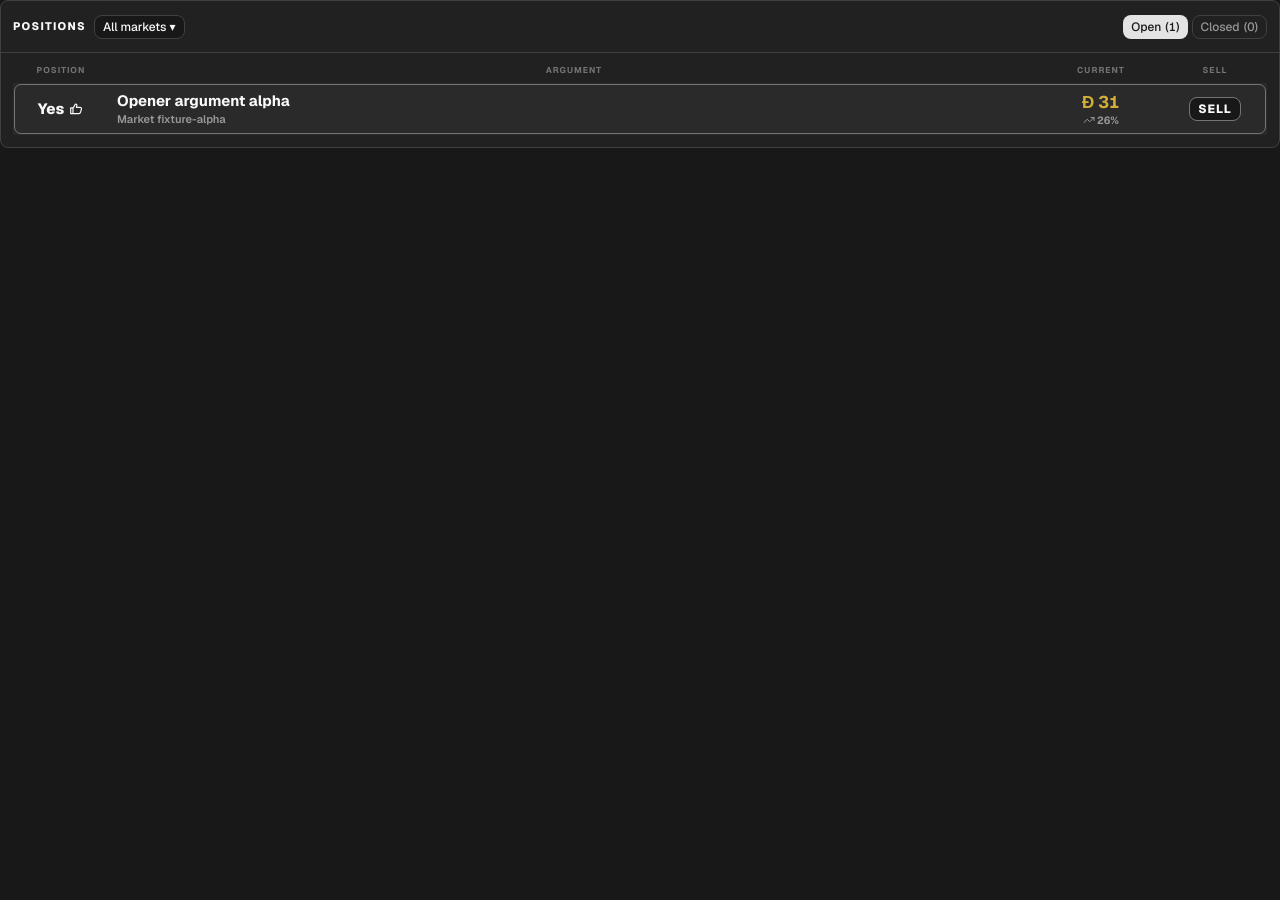
Scenario: MOBILE-2e — the phone sell, through its host › phone-host::the-tier-stub-MOUNTS-the-sheet-and-the-in-row-arm-stands-down
Click the button "Sell". click: [1215, 109]
box: left=1189, top=97, right=1241, bottom=121
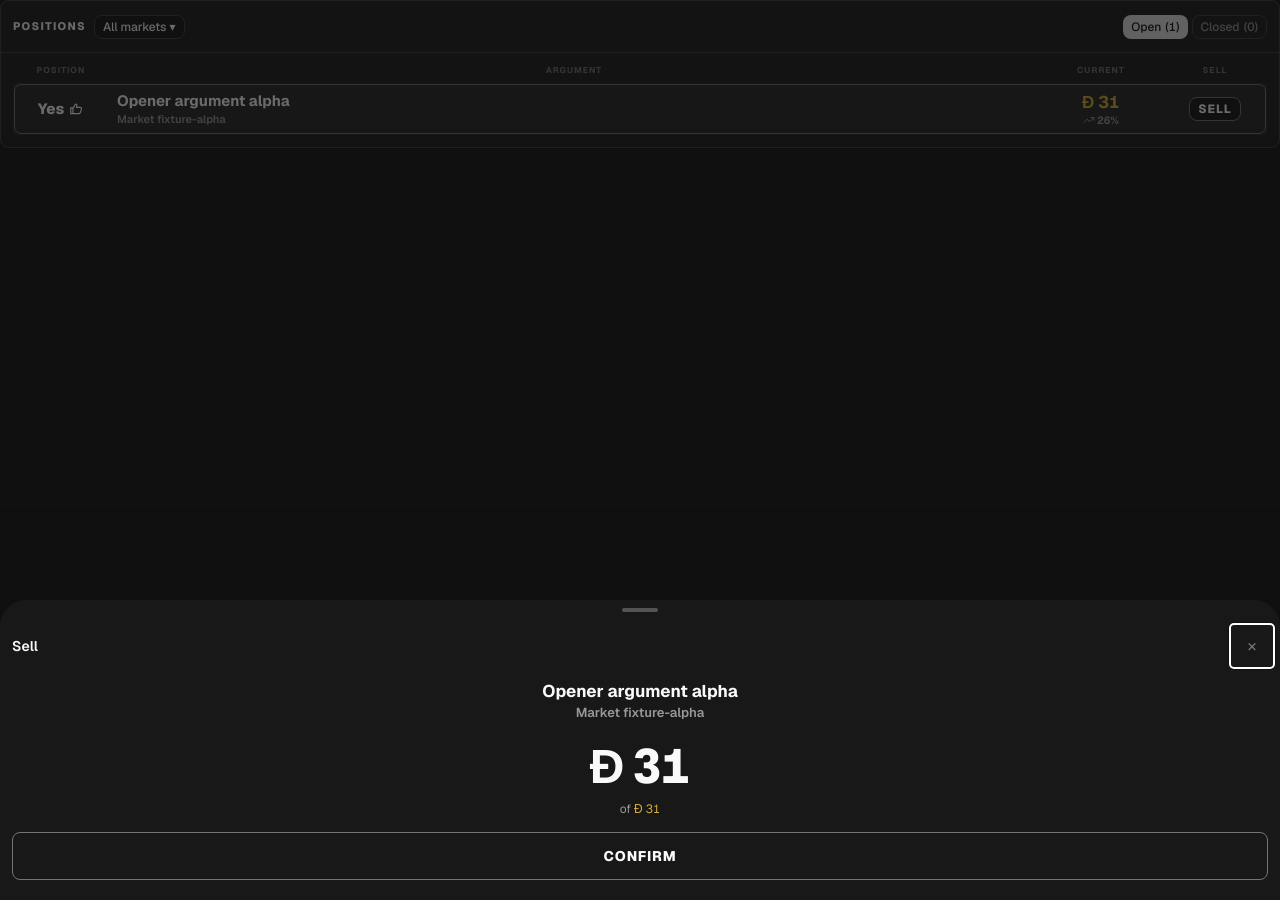
Check: the element with test id "phone-sheet-body" is shown, box left=0, top=676, right=1279, bottom=899
